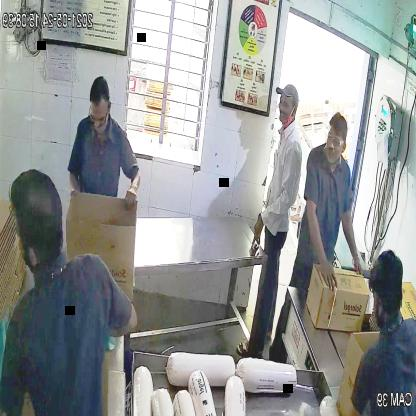goggles: (324, 130, 346, 151)
no_goggles: (86, 103, 111, 128), (276, 94, 299, 115)
